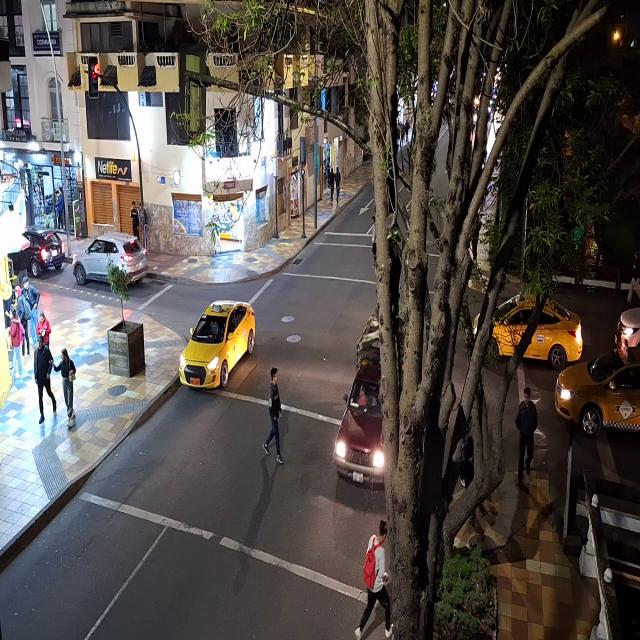CMT: (334, 310, 385, 486)
SED: (474, 297, 581, 361), (555, 351, 640, 431), (180, 300, 250, 386), (73, 234, 147, 286)
